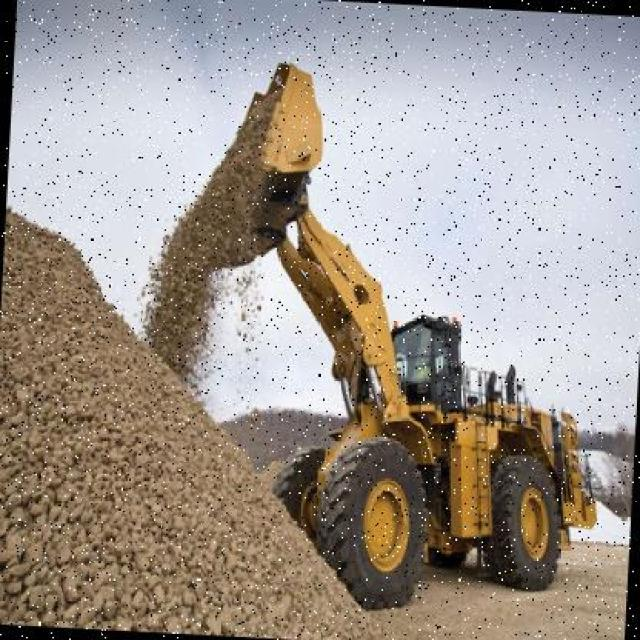buldozerpayloadergrader: (189, 22, 623, 616)
